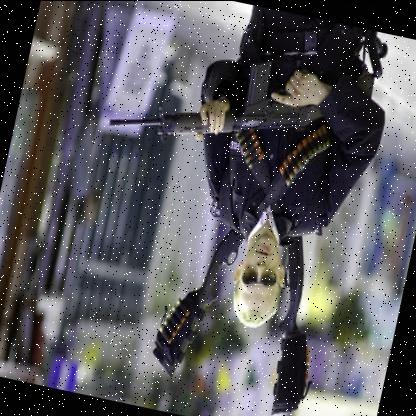rifle: (105, 24, 339, 175)
